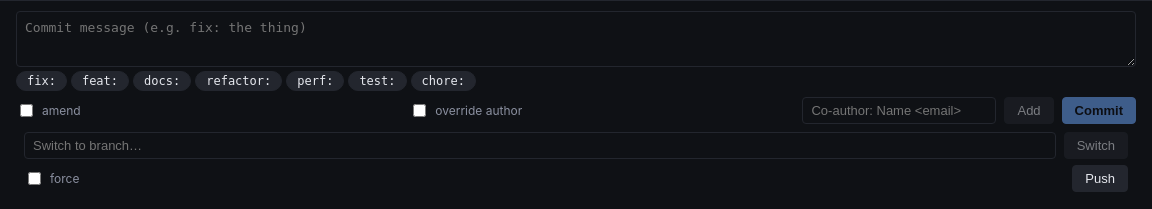
Test case: a conventional-commit type chip rewrites the message prefix
In the text box with placeholder "Commit message (e.g. fix: the thing)": (576, 39) 16,11 -> 1136,67, type "fix: first"
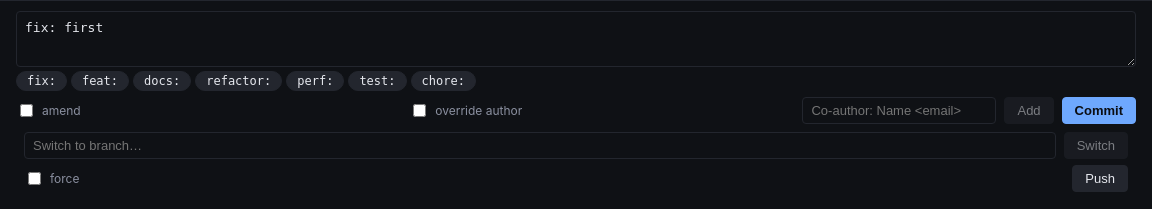
Click the button "refactor:": (239, 81) 195,71 -> 282,91
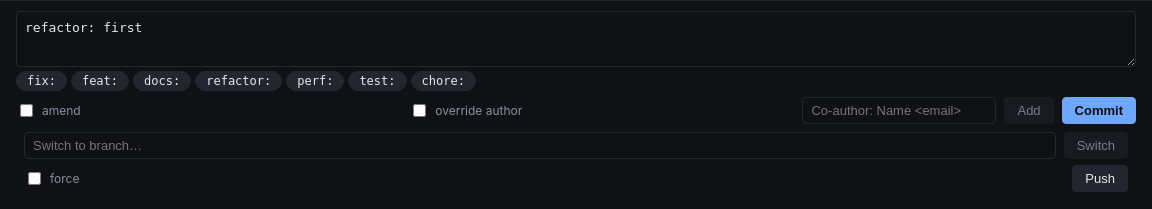
Now the text box with placeholder "Commit message (e.g. fix: the thing)" holds "refactor: first", box 16,11 -> 1136,67
